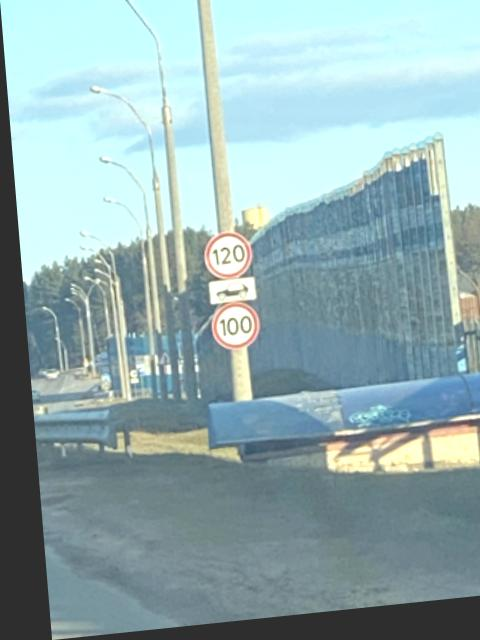limit100: (205, 301, 258, 361)
limit120: (198, 229, 251, 287)
